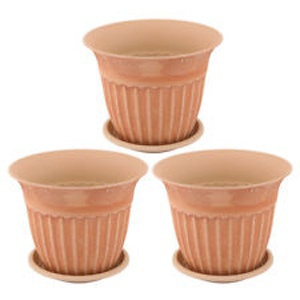flowerpot: (149, 147, 293, 285), (7, 146, 149, 285), (81, 19, 223, 157)
